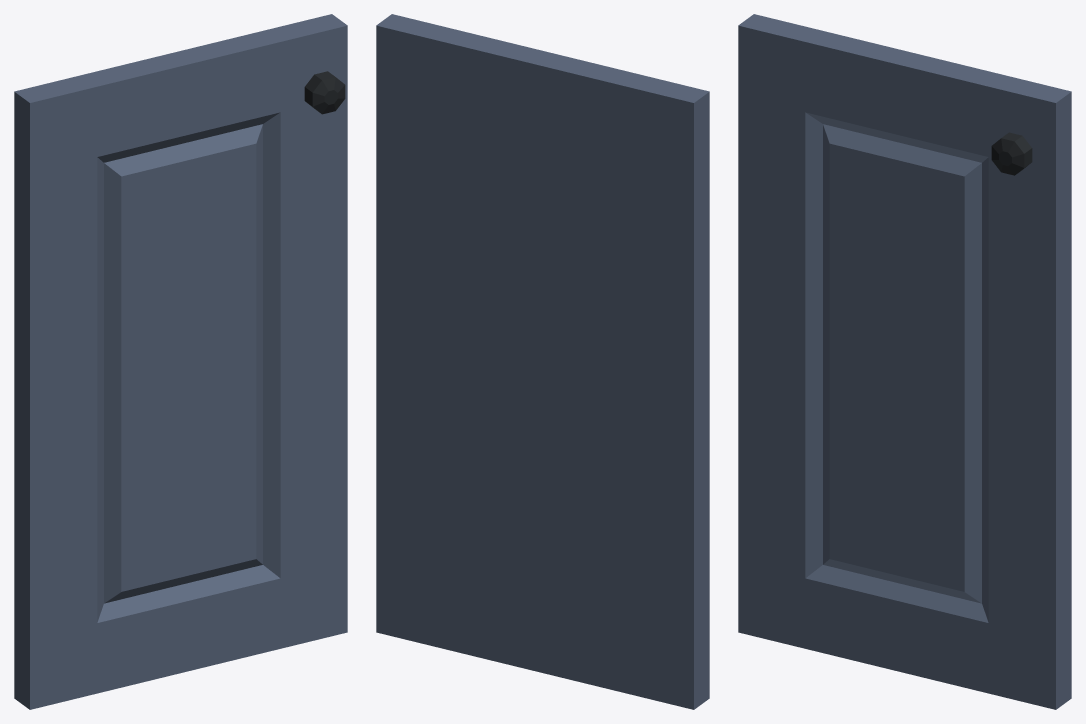
Rendered from Door3_C4_10.fbx.
3 renders of one model, left to right at view 1: azimuth 30°, elevation 25°; view 2: azimuth 150°, elevation 25°; view 3: azimuth 330°, elevation 25°, orthographic.
Visible parts, largest first — view 1: Door3_C4_10; view 2: Door3_C4_10; view 3: Door3_C4_10.
Part boxes in pixels (x1=…): Door3_C4_10: x1=14, y1=14, x2=347, y2=709; Door3_C4_10: x1=376, y1=14, x2=709, y2=709; Door3_C4_10: x1=738, y1=14, x2=1071, y2=709.
Bounding box in the file's own units: 29 × 52.92 × 5.19.
